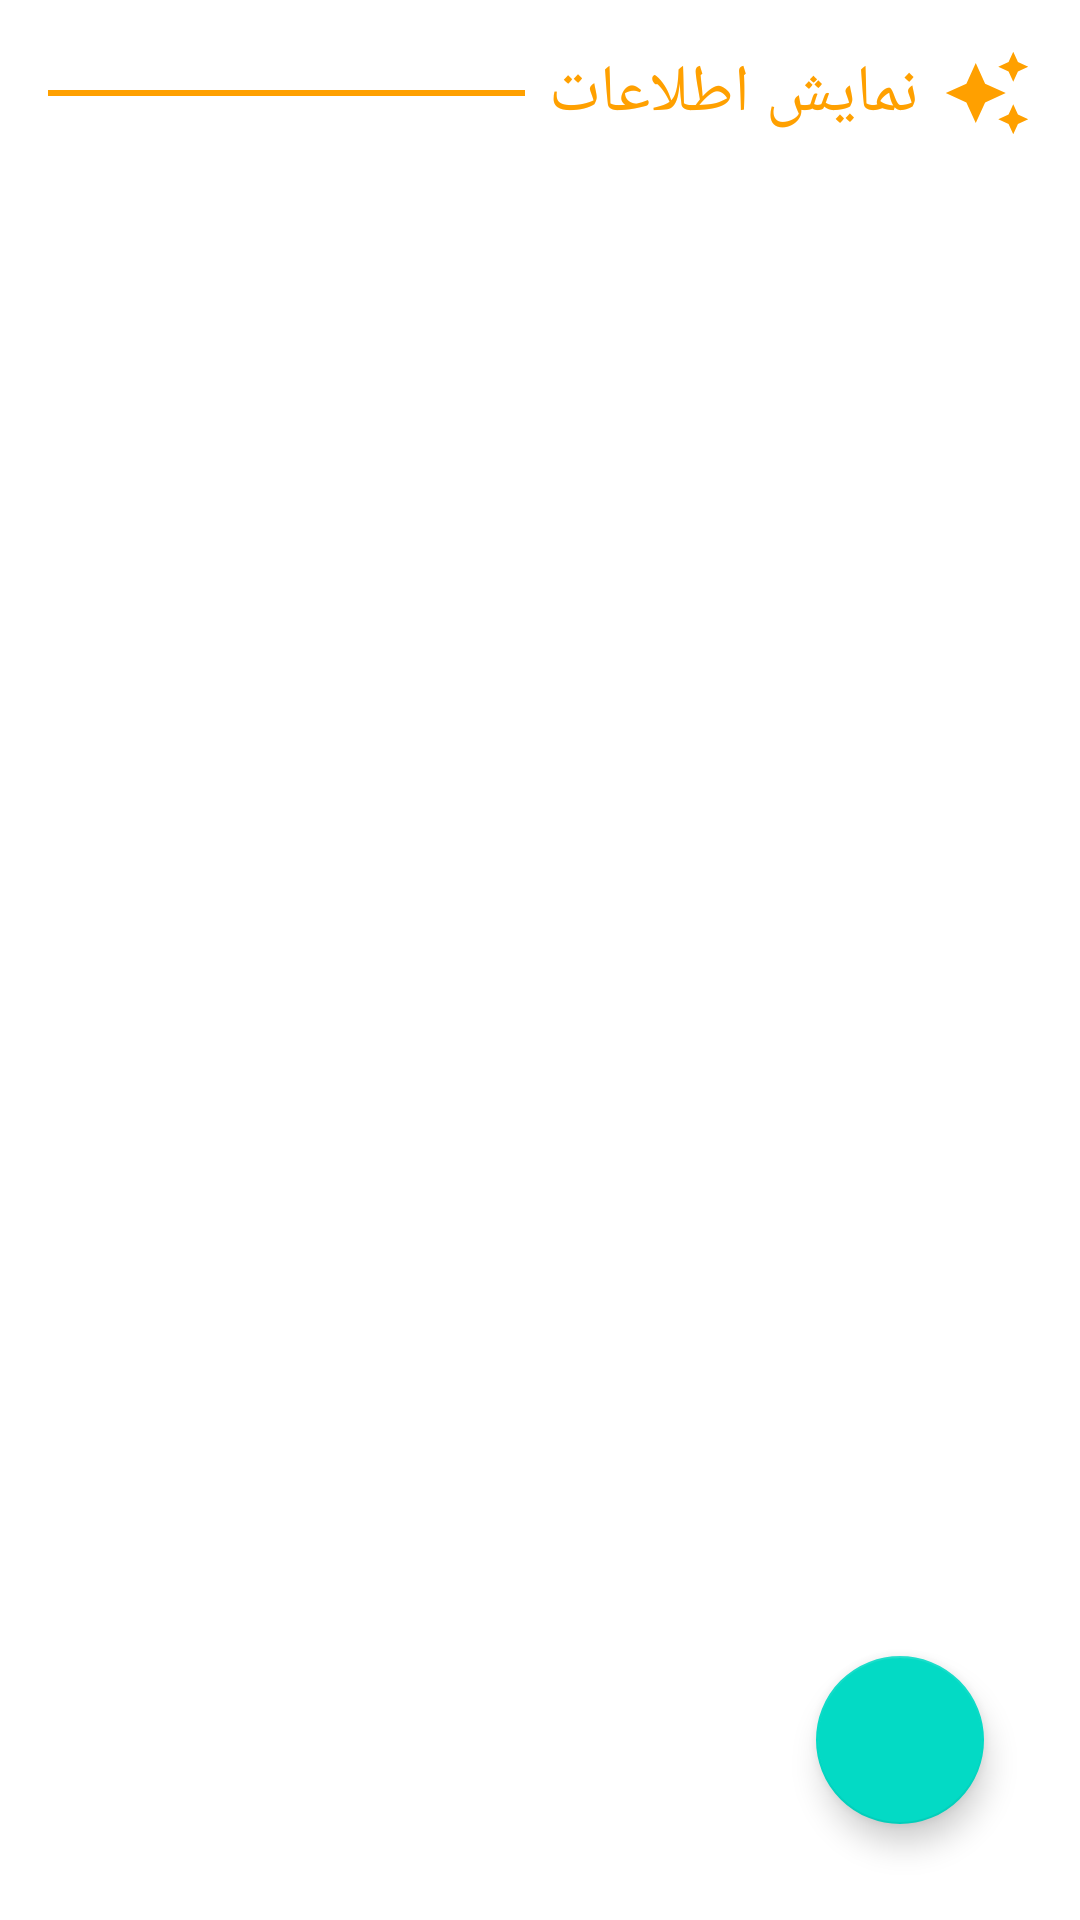

Icon bounding boxes for this 1080*1920 phone screenshot, format {"x1": x1, "y1": y1, "x2": x2, "y2": y2}:
awesome: {"x1": 946, "y1": 52, "x2": 1028, "y2": 134}
